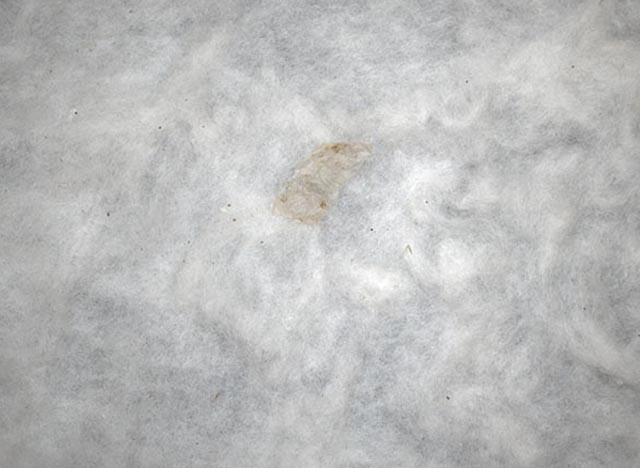plastic film: (271, 141, 371, 227)
